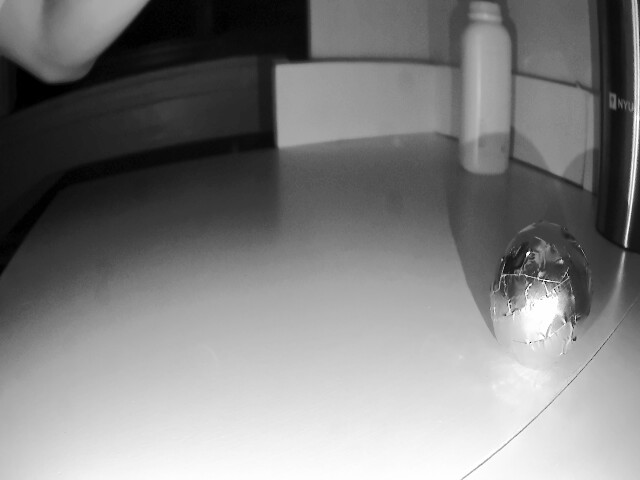silver: (489, 228, 585, 379)
